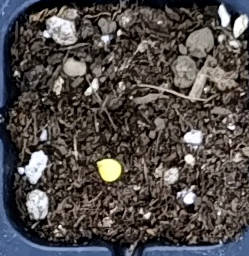chilli seed: (95, 157, 122, 183)
